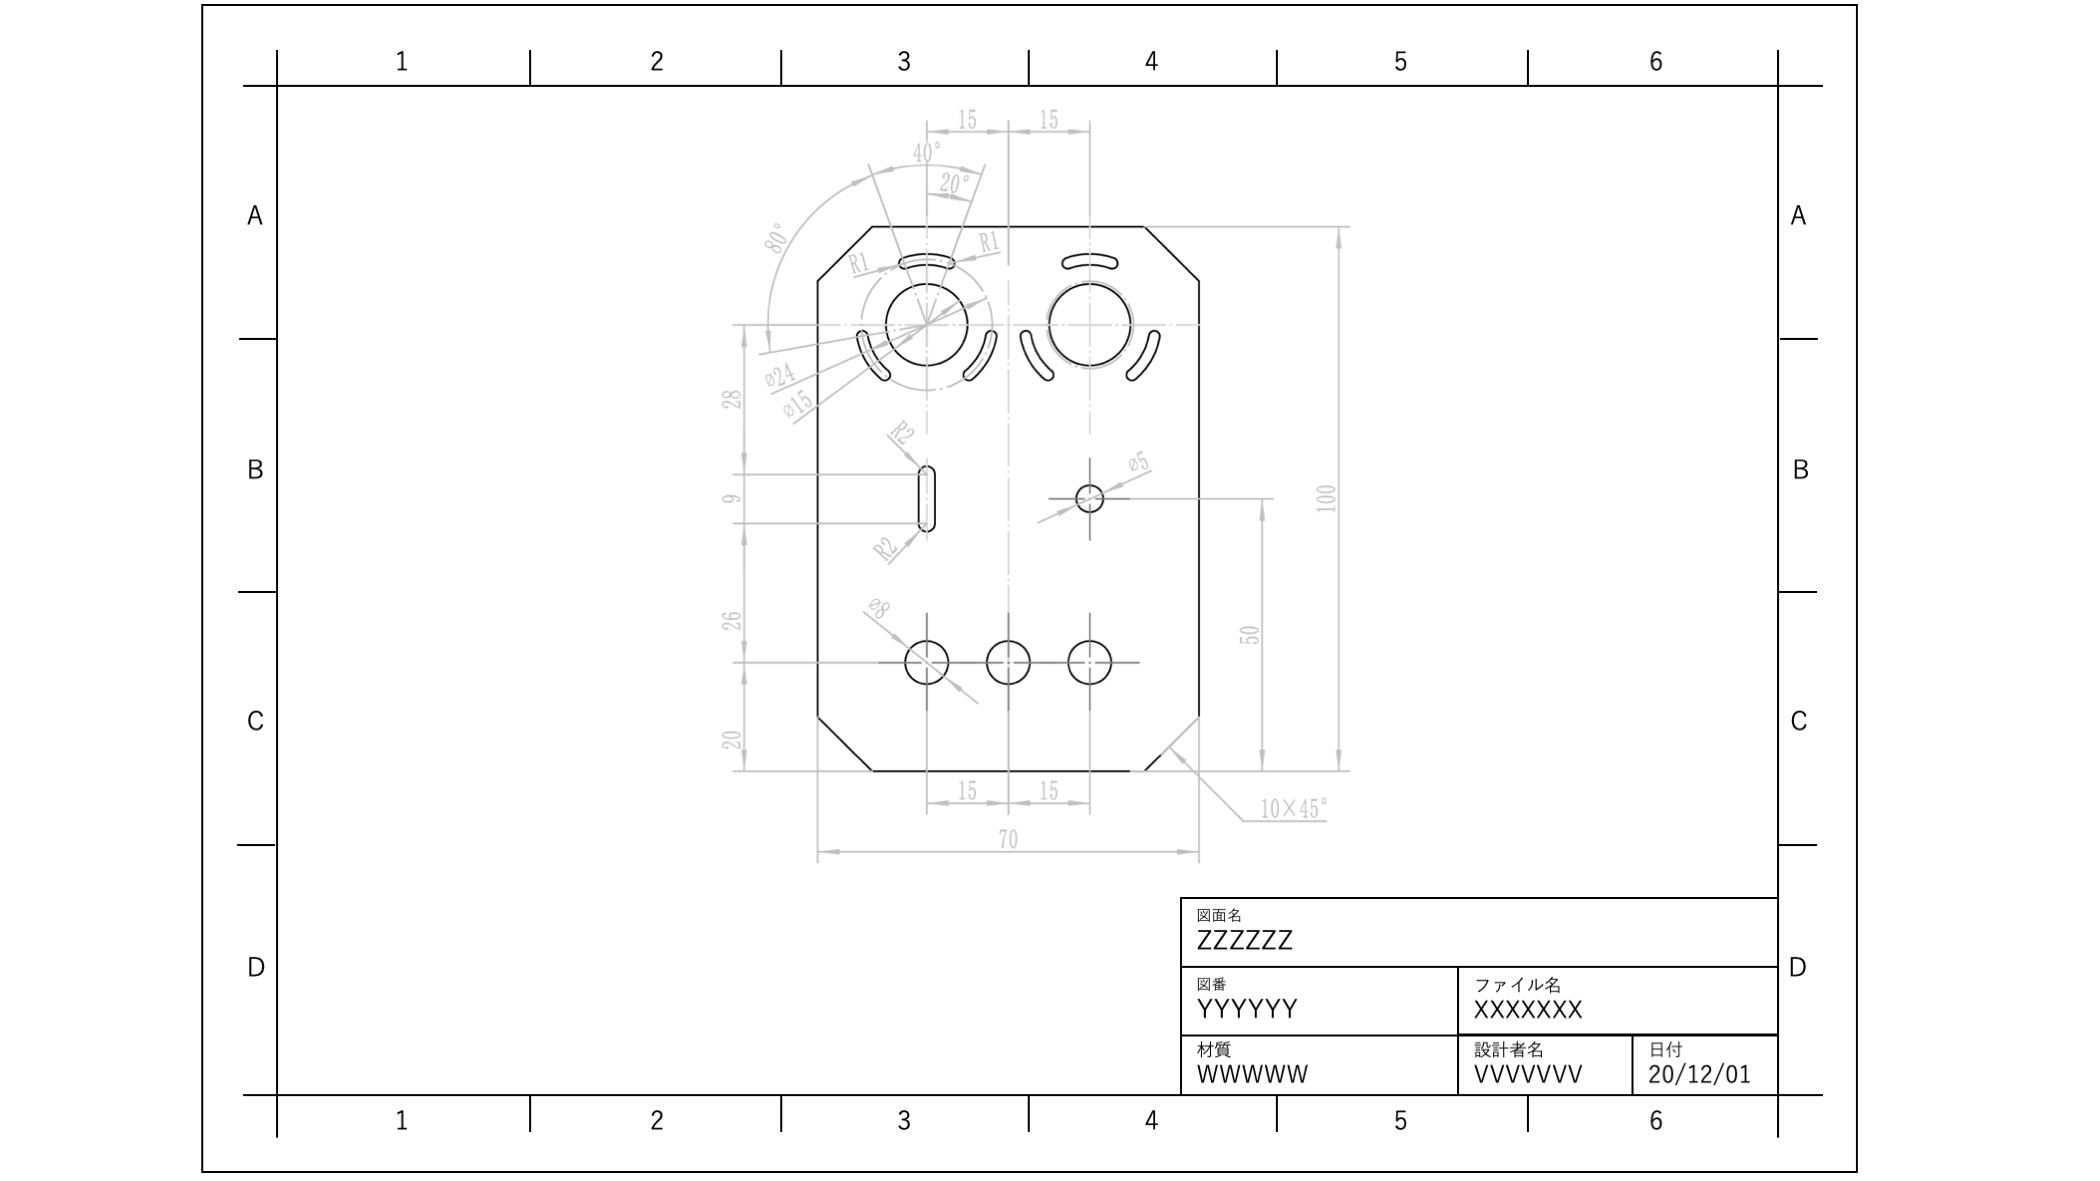circle: (1041, 283, 1138, 368), (878, 275, 971, 363), (893, 627, 958, 692), (976, 630, 1036, 691), (1064, 630, 1116, 691), (1064, 470, 1121, 516)
round_rectangle: (901, 454, 948, 536), (1012, 319, 1067, 385), (847, 322, 891, 389), (1126, 317, 1165, 391), (1054, 244, 1134, 278), (888, 247, 966, 274), (972, 317, 1000, 389)
